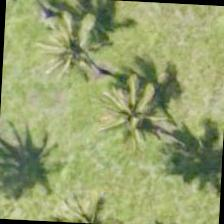Kelapa_Sawit: (38, 13, 133, 108), (78, 62, 172, 157), (3, 0, 83, 50)
